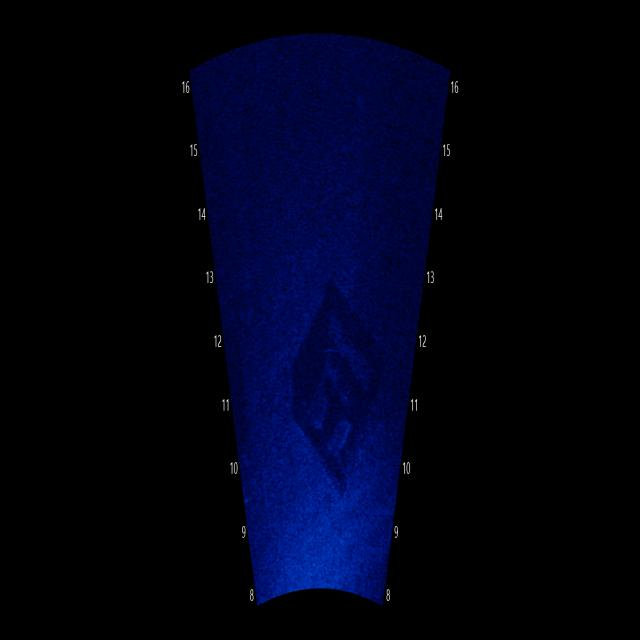square: (268, 262, 388, 501)
